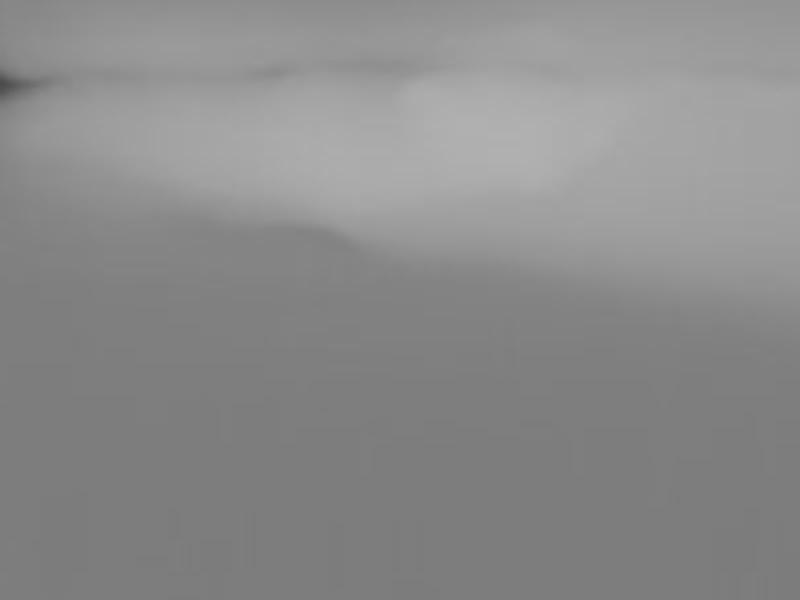defect: (1, 76, 27, 102)
